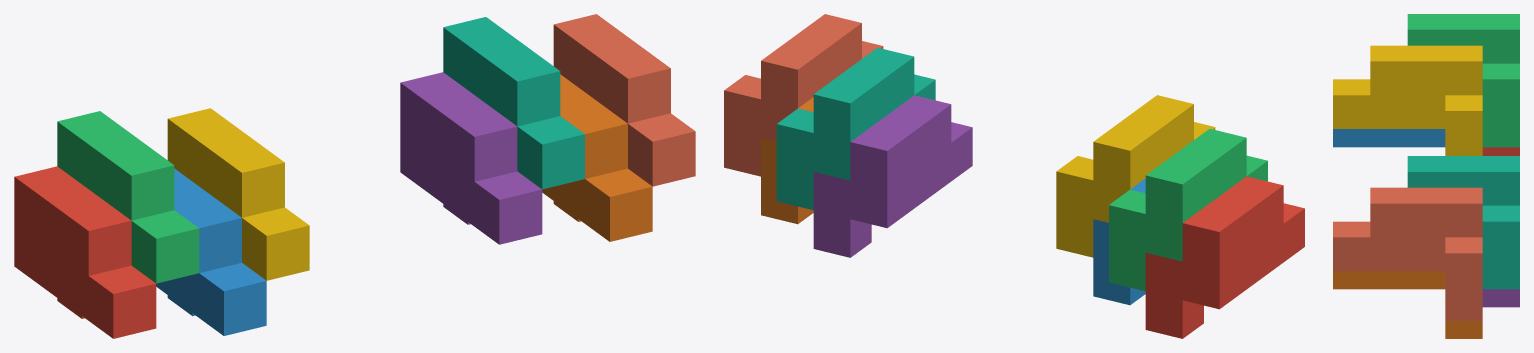
The model's file is tiling.obj.
3 renders of one model, left to right at view 1: azimuth 30°, elevation 25°; view 2: azimuth 150°, elevation 25°; view 3: azimuth 270°, elevation 25°, orthographic. The views are drawn at different scales.
Parts seen in each view (by area): view 1: copy_1_domain_5, copy_1_domain_1, copy_1_domain_3, copy_1_domain_7, copy_1_domain_4, copy_1_domain_8, copy_1_domain_2, copy_1_domain_6; view 2: copy_1_domain_1, copy_1_domain_5, copy_1_domain_7, copy_1_domain_3, copy_1_domain_4, copy_1_domain_8, copy_1_domain_2, copy_1_domain_6; view 3: copy_1_domain_8, copy_1_domain_4, copy_1_domain_3, copy_1_domain_7, copy_1_domain_6, copy_1_domain_2, copy_1_domain_5, copy_1_domain_1.
Part boxes in pixels (x1=…): copy_1_domain_5: x1=400, y1=72, x2=542, y2=244; copy_1_domain_1: x1=14, y1=166, x2=156, y2=338; copy_1_domain_3: x1=57, y1=111, x2=199, y2=283; copy_1_domain_7: x1=443, y1=17, x2=584, y2=189; copy_1_domain_4: x1=167, y1=108, x2=309, y2=280; copy_1_domain_8: x1=553, y1=14, x2=695, y2=186; copy_1_domain_2: x1=156, y1=168, x2=266, y2=335; copy_1_domain_6: x1=542, y1=74, x2=652, y2=241; copy_1_domain_1: x1=1145, y1=176, x2=1304, y2=338; copy_1_domain_5: x1=813, y1=95, x2=972, y2=257; copy_1_domain_7: x1=776, y1=47, x2=935, y2=210; copy_1_domain_3: x1=1109, y1=129, x2=1267, y2=291; copy_1_domain_4: x1=1056, y1=95, x2=1215, y2=257; copy_1_domain_8: x1=724, y1=14, x2=883, y2=176; copy_1_domain_2: x1=1093, y1=178, x2=1145, y2=305; copy_1_domain_6: x1=761, y1=97, x2=813, y2=224; copy_1_domain_8: x1=1333, y1=187, x2=1482, y2=320; copy_1_domain_4: x1=1333, y1=45, x2=1482, y2=155; copy_1_domain_3: x1=1407, y1=14, x2=1519, y2=147; copy_1_domain_7: x1=1407, y1=156, x2=1519, y2=289; copy_1_domain_6: x1=1333, y1=271, x2=1482, y2=338; copy_1_domain_2: x1=1333, y1=129, x2=1445, y2=147; copy_1_domain_5: x1=1482, y1=289, x2=1519, y2=307; copy_1_domain_1: x1=1482, y1=147, x2=1519, y2=155.
Size of the model in its own units: 14 by 4 by 5.
